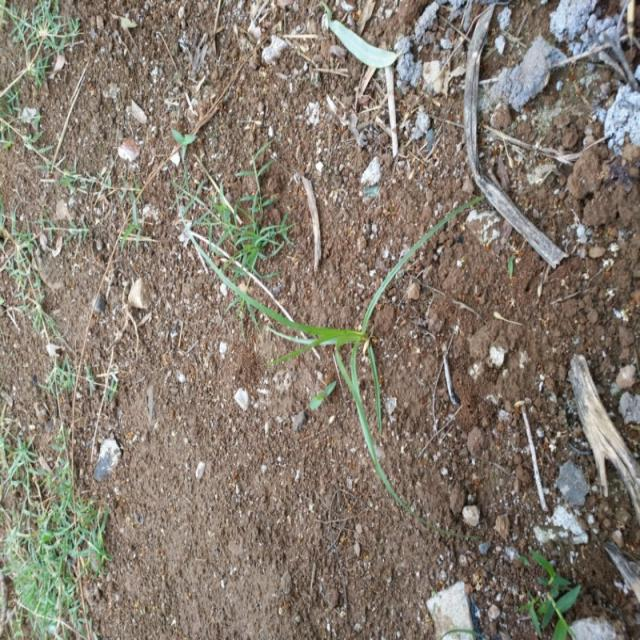sedge: (250, 269, 480, 527)
